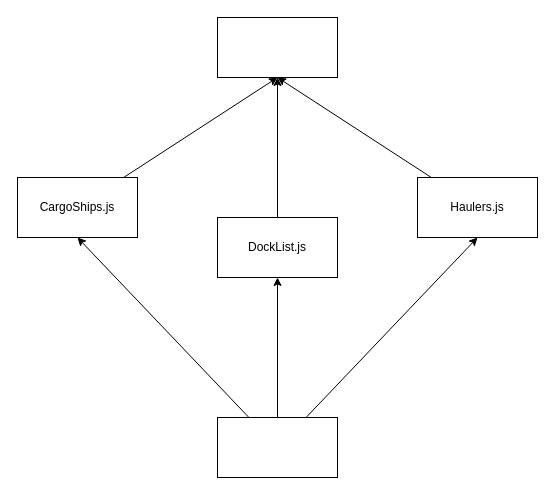
Image size: 555x495. Some labels were removed from this diagram. Here are the shapes that lost their labels. From the top down, the box of each, then its label:
(216, 16, 338, 78): Main.js
(216, 416, 338, 478): Database.js
